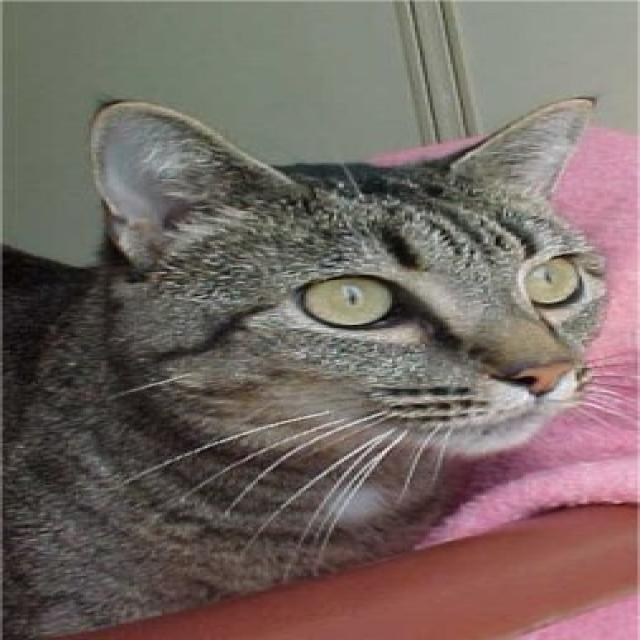Cats: (0, 93, 635, 638)
